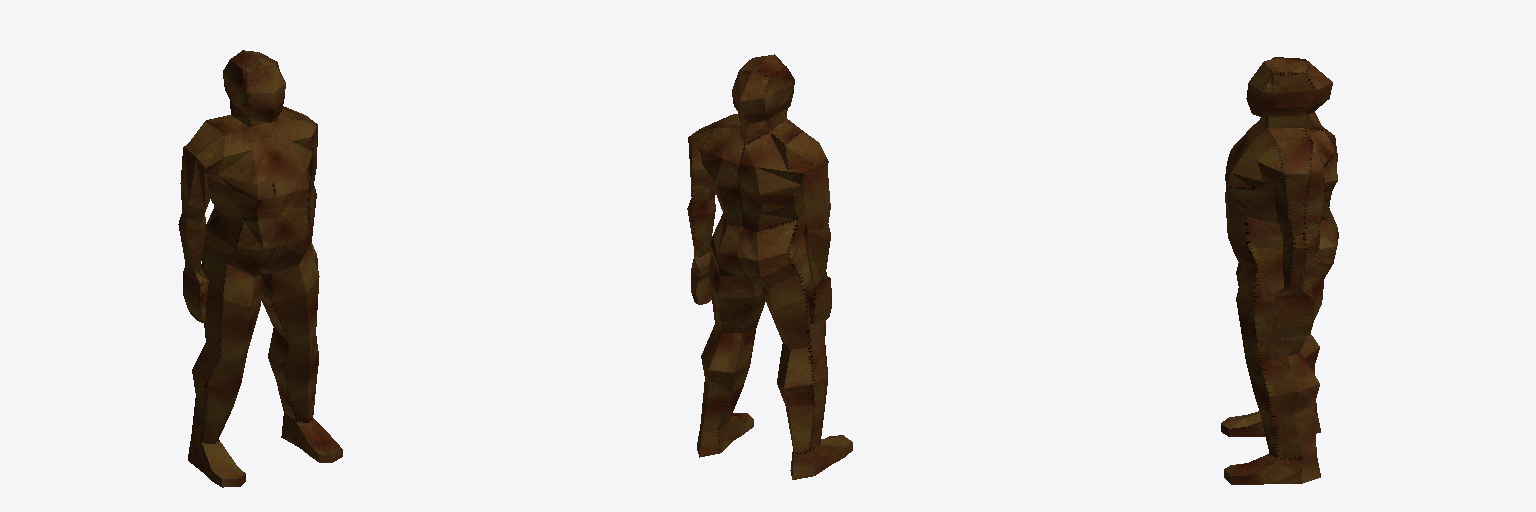
3 renders of one model, left to right at view 1: azimuth 30°, elevation 25°; view 2: azimuth 150°, elevation 25°; view 3: azimuth 270°, elevation 25°, orthographic.
Visible parts, largest first — view 1: Mesh_HumanMale_meHumanMale; view 2: Mesh_HumanMale_meHumanMale; view 3: Mesh_HumanMale_meHumanMale.
Part boxes in pixels (x1,y1,x2,y2): Mesh_HumanMale_meHumanMale: (178,50,342,487); Mesh_HumanMale_meHumanMale: (687,54,852,479); Mesh_HumanMale_meHumanMale: (1221,57,1338,484).
Bounding box in the file's own units: 0.6519 × 1.83 × 0.4956.
1 materials, 1 textured.